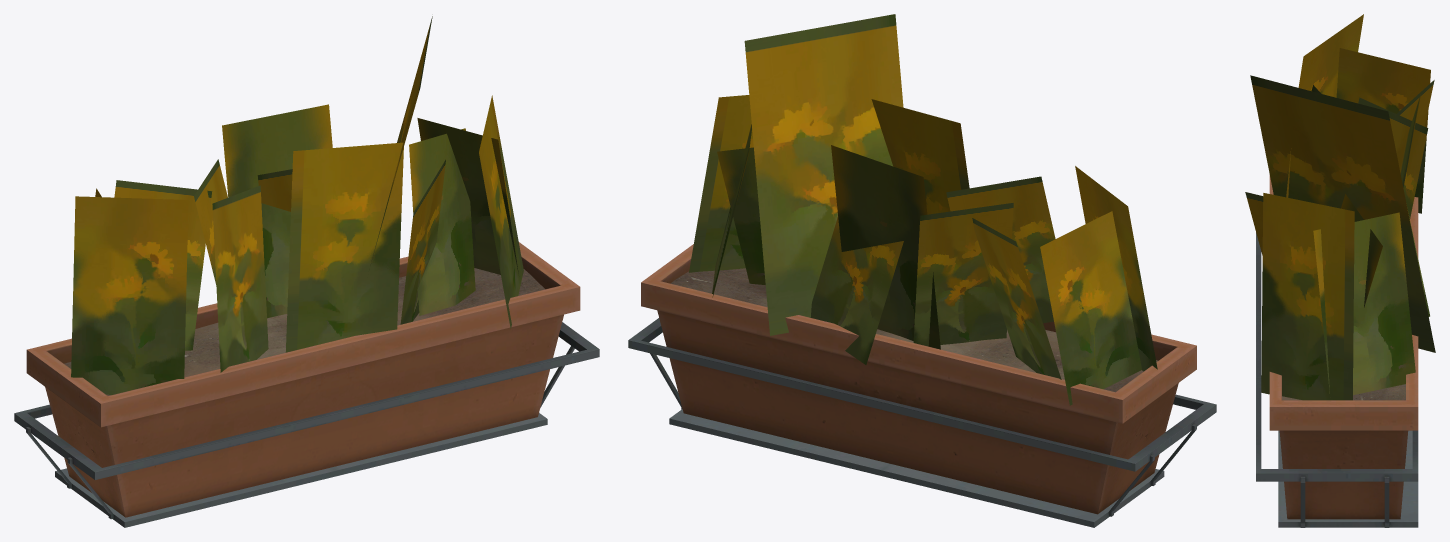
Rendered from plantpot_01a.glb.
The picture shows the model from 3 angles, left to right: view 1: azimuth 30°, elevation 25°; view 2: azimuth 150°, elevation 25°; view 3: azimuth 270°, elevation 25°; orthographic projection.
Visible parts, largest first — view 1: plantpot_01a; view 2: plantpot_01a; view 3: plantpot_01a.
Boxes of the visible parts, x1=… form: plantpot_01a: x1=14, y1=16, x2=599, y2=527; plantpot_01a: x1=628, y1=14, x2=1216, y2=527; plantpot_01a: x1=1245, y1=14, x2=1435, y2=527.
Size of the model in its own units: 0.9087 by 0.656 by 0.2928.
2 materials, 2 textured.
